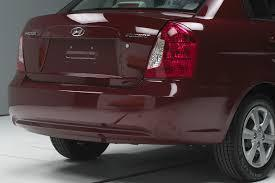Bumper: (86, 121, 142, 155)
